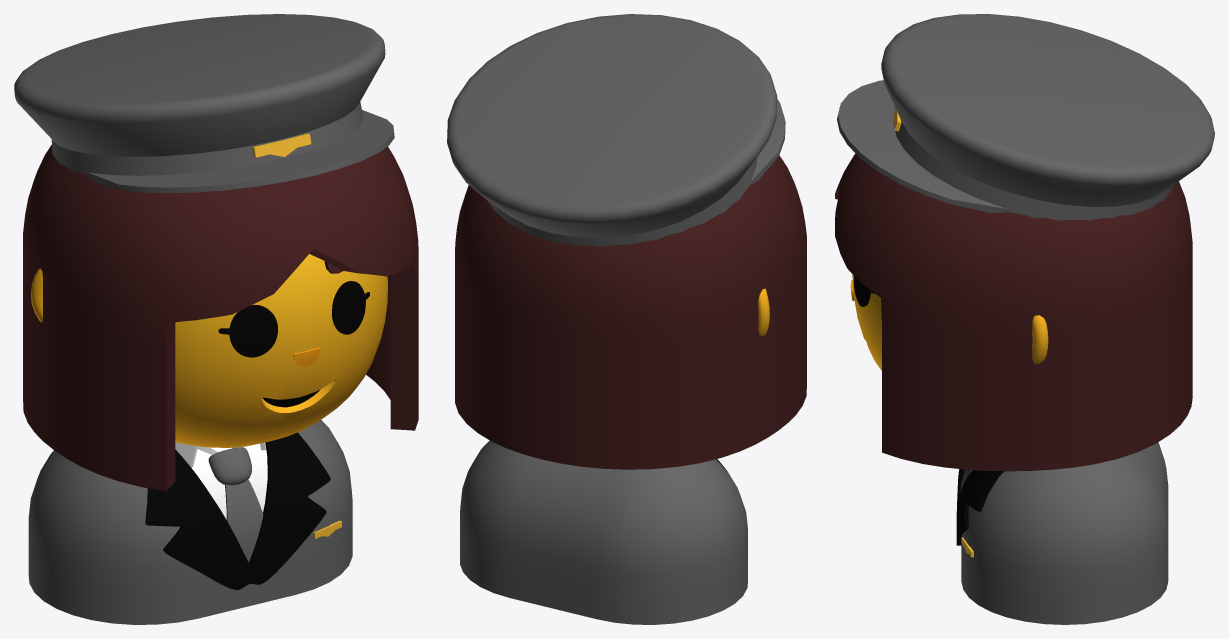
Rendered from woman_pilot.fbx.
The picture shows the model from 3 angles, left to right: view 1: azimuth 30°, elevation 25°; view 2: azimuth 150°, elevation 25°; view 3: azimuth 270°, elevation 25°; orthographic projection. The views are drawn at different scales.
Parts seen in each view (by area): view 1: Roundcube.134, Circle.744, Sphere.093, Roundcube.133, Circle.742, Circle.737, Circle.743, Cube.1655, Cube.1657; view 2: Roundcube.134, Circle.744, Sphere.093; view 3: Roundcube.134, Circle.744, Sphere.093, Circle.742, Roundcube.133, Cylinder.111.
Boxes of the visible parts, x1,y1,x2,y2 form: Roundcube.134: (23, 144, 418, 491); Circle.744: (14, 14, 394, 193); Sphere.093: (28, 420, 352, 624); Roundcube.133: (175, 254, 387, 447); Circle.742: (145, 432, 330, 589); Circle.737: (229, 281, 365, 357); Circle.743: (225, 479, 263, 562); Cube.1655: (208, 447, 251, 485); Cube.1657: (252, 133, 311, 157); Roundcube.134: (455, 155, 806, 469); Circle.744: (447, 14, 785, 246); Sphere.093: (460, 440, 747, 624); Roundcube.134: (835, 153, 1192, 471); Circle.744: (837, 14, 1214, 220); Sphere.093: (961, 442, 1168, 624); Circle.742: (956, 469, 1003, 545); Roundcube.133: (852, 274, 881, 370); Cylinder.111: (1032, 315, 1048, 363).
Size of the model in its own units: 162 by 248 by 169.
Materials: 2 (2 with a texture image).
